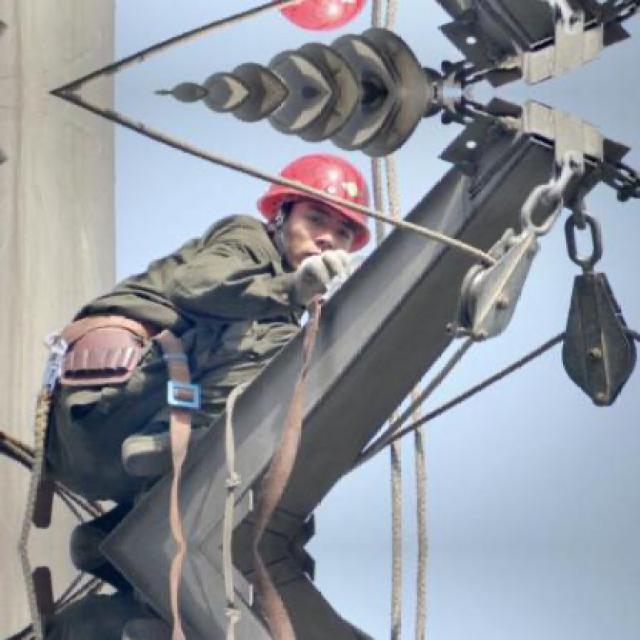helmet: (252, 142, 378, 271), (252, 0, 380, 45)
